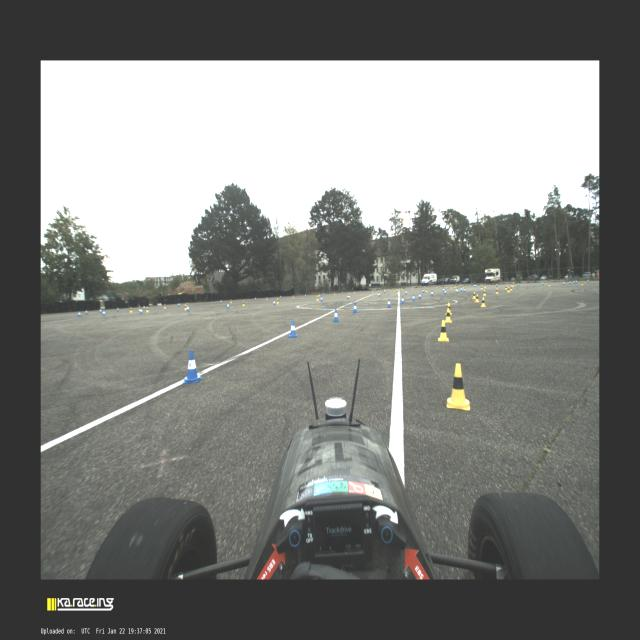blue_cone: (182, 350, 202, 384), (288, 320, 298, 338), (333, 308, 339, 322), (352, 302, 358, 313), (387, 299, 391, 308), (400, 296, 404, 304), (412, 294, 416, 302), (418, 293, 422, 299), (430, 290, 434, 296), (78, 310, 82, 316), (102, 310, 106, 316), (140, 308, 144, 314), (456, 288, 459, 294), (85, 309, 88, 315), (273, 300, 276, 306), (444, 289, 446, 295), (464, 287, 466, 293), (187, 306, 189, 312), (320, 296, 322, 302), (348, 294, 350, 300), (359, 290, 362, 294), (460, 287, 462, 292), (100, 308, 102, 313), (117, 307, 119, 312), (227, 303, 229, 308), (378, 292, 380, 297), (406, 290, 408, 295), (575, 279, 577, 284), (143, 305, 145, 309), (178, 302, 180, 306), (220, 299, 222, 303), (254, 297, 256, 301), (280, 294, 282, 298), (323, 292, 325, 296), (423, 289, 425, 293), (496, 284, 498, 288), (518, 282, 520, 286), (542, 282, 544, 286), (563, 281, 565, 285), (570, 280, 572, 284), (574, 280, 576, 284), (587, 279, 589, 283), (409, 287, 412, 289), (474, 284, 476, 287), (304, 294, 306, 296), (342, 292, 344, 294), (375, 289, 376, 291), (439, 286, 440, 288), (470, 284, 471, 286)
yellow_cone: (447, 364, 469, 410), (438, 321, 449, 342), (444, 308, 452, 323), (446, 302, 452, 314), (480, 297, 486, 307), (472, 292, 476, 300), (474, 294, 478, 302), (482, 290, 487, 296), (495, 288, 499, 294), (480, 284, 483, 290), (242, 300, 245, 306), (184, 304, 187, 310), (146, 306, 149, 312), (130, 307, 133, 313), (508, 286, 510, 292), (510, 286, 512, 292), (582, 280, 584, 286), (316, 295, 318, 301), (276, 298, 278, 304), (139, 306, 141, 312), (348, 292, 350, 298), (377, 290, 379, 296), (505, 285, 507, 290), (484, 283, 486, 288), (396, 289, 398, 294), (186, 302, 188, 307), (164, 304, 166, 309), (512, 282, 514, 287), (548, 282, 550, 286), (462, 285, 464, 289), (456, 286, 458, 290), (450, 285, 452, 289), (426, 288, 428, 292), (423, 285, 425, 289), (402, 287, 404, 291), (372, 288, 374, 292), (354, 290, 356, 294), (334, 292, 336, 296), (318, 293, 320, 297), (292, 294, 294, 298), (266, 296, 268, 300), (230, 300, 232, 304), (454, 285, 456, 288), (446, 286, 448, 288), (412, 286, 413, 290), (437, 286, 438, 288)
